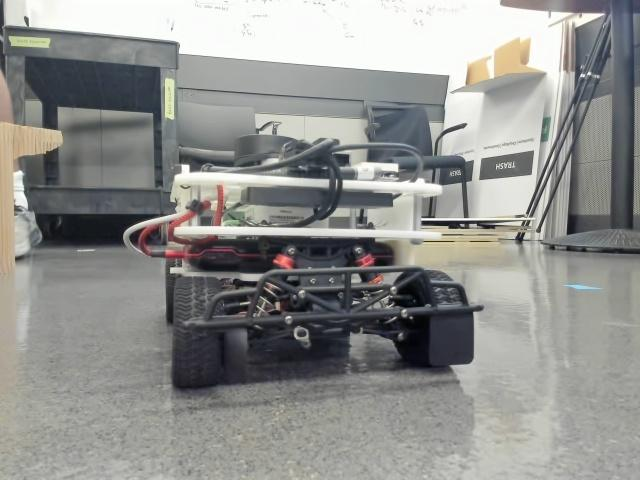Car: (170, 137, 474, 386)
